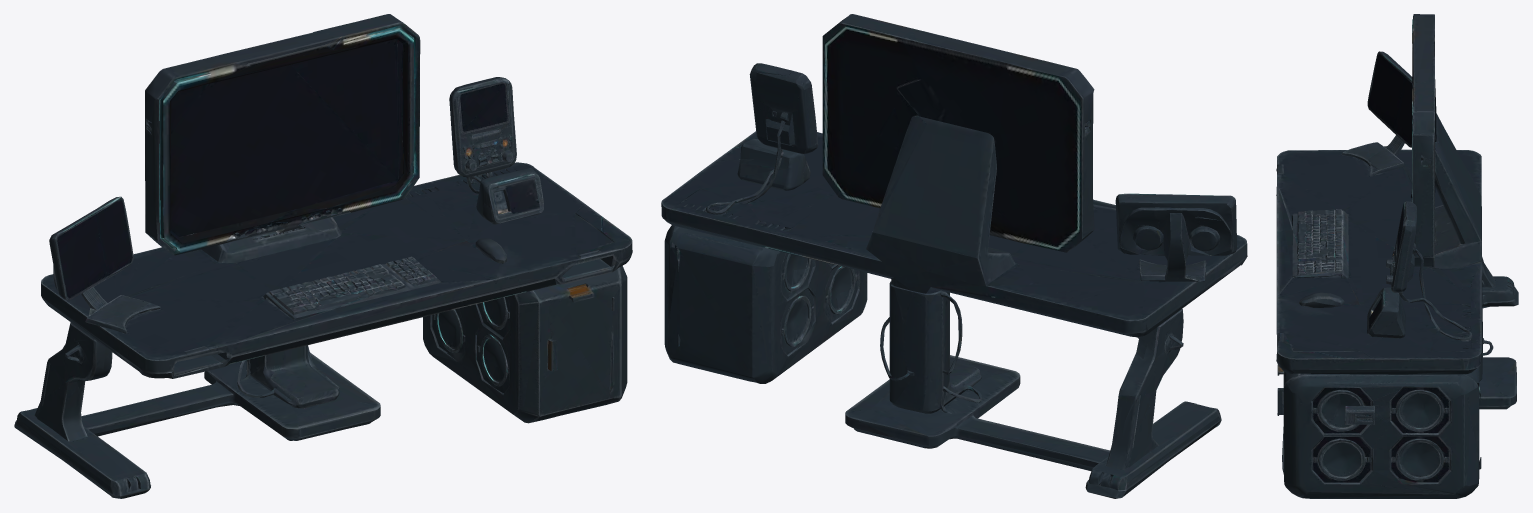
File: console.gltf
3 renders of one model, left to right at view 1: azimuth 30°, elevation 25°; view 2: azimuth 150°, elevation 25°; view 3: azimuth 270°, elevation 25°, orthographic. The views are drawn at different scales.
Bounding box in the file's own units: 1.9 × 1.23 × 0.8354.
Materials: 1 (1 with a texture image).
